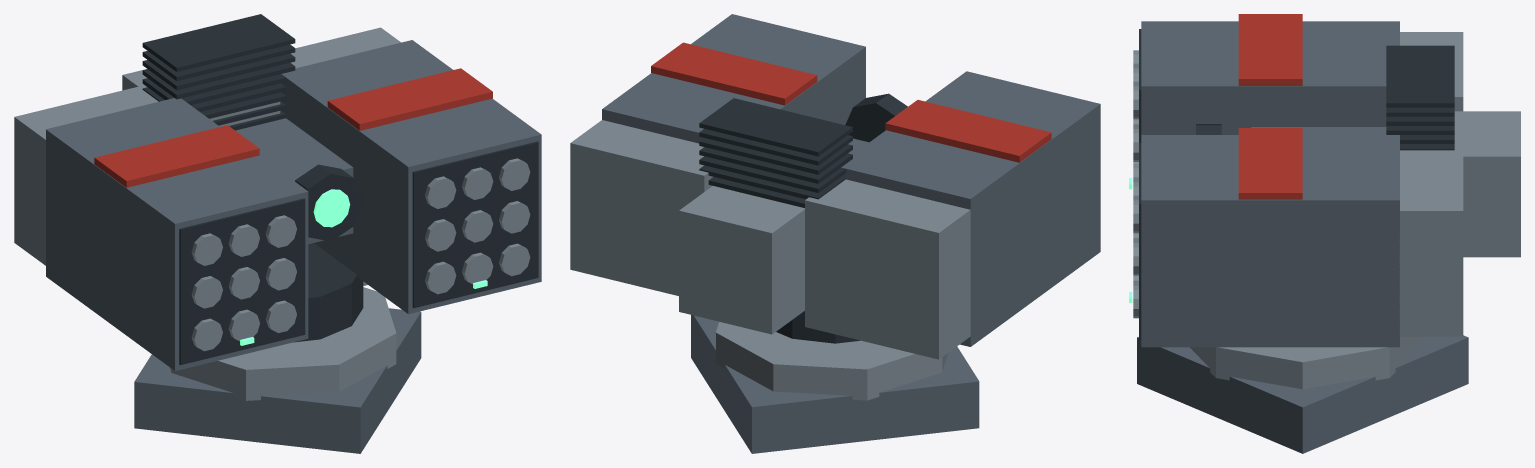
Rendered from quiver_t3_d0.glb.
The picture shows the model from 3 angles, left to right: view 1: azimuth 30°, elevation 25°; view 2: azimuth 150°, elevation 25°; view 3: azimuth 270°, elevation 25°; orthographic projection.
Parts seen in each view (by area): view 1: RECOIL_ARMOR_GEOMETRY, BASE_ARMOR_GEOMETRY, YAW_ARMOR_GEOMETRY, RECOIL_SIGNAL_GEOMETRY; view 2: RECOIL_ARMOR_GEOMETRY, BASE_ARMOR_GEOMETRY, YAW_ARMOR_GEOMETRY; view 3: RECOIL_ARMOR_GEOMETRY, BASE_ARMOR_GEOMETRY.
Boxes of the visible parts, x1,y1,x2,y2 form: RECOIL_ARMOR_GEOMETRY: [14, 14, 541, 370]; BASE_ARMOR_GEOMETRY: [134, 287, 421, 453]; YAW_ARMOR_GEOMETRY: [294, 243, 367, 342]; RECOIL_SIGNAL_GEOMETRY: [240, 189, 487, 345]; RECOIL_ARMOR_GEOMETRY: [570, 14, 1100, 359]; BASE_ARMOR_GEOMETRY: [691, 315, 979, 453]; YAW_ARMOR_GEOMETRY: [776, 311, 859, 343]; RECOIL_ARMOR_GEOMETRY: [1133, 14, 1520, 347]; BASE_ARMOR_GEOMETRY: [1137, 335, 1468, 453].
Size of the model in its own units: 1.98 by 1.6 by 1.83.
